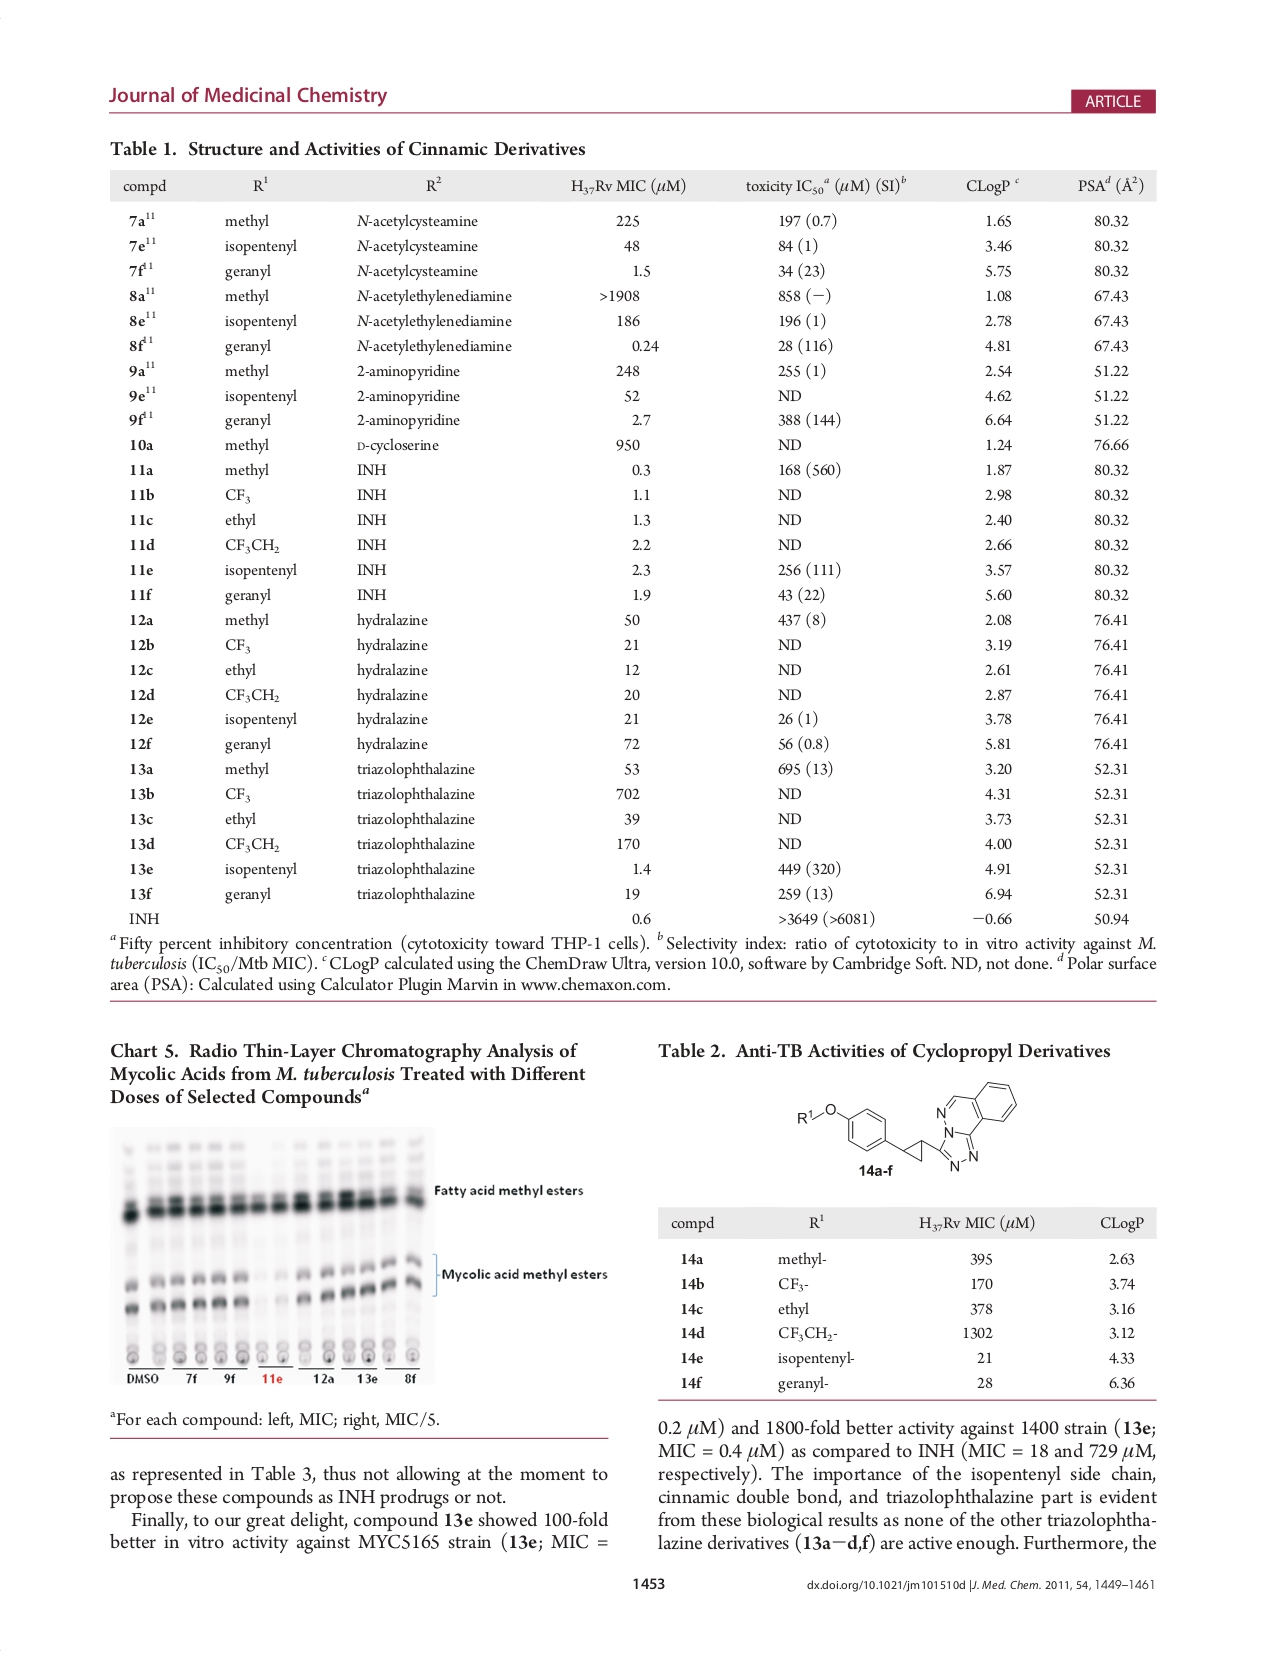exist_molecular: (793, 1076, 1019, 1174)
